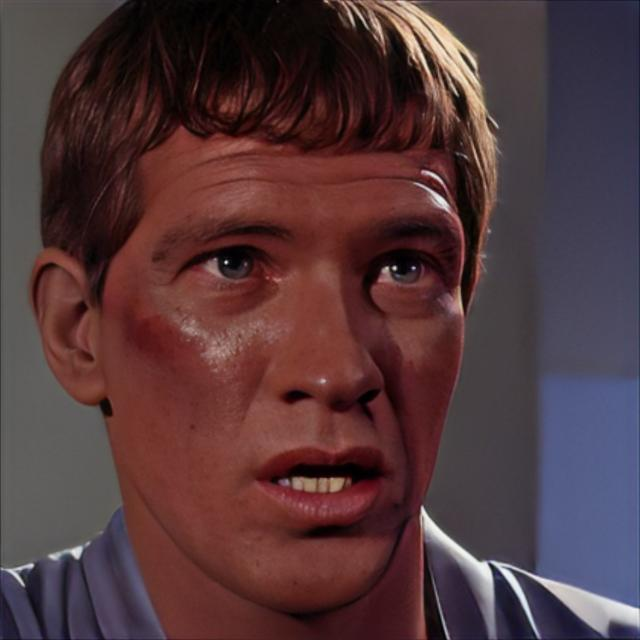Fear: (102, 58, 468, 614)
